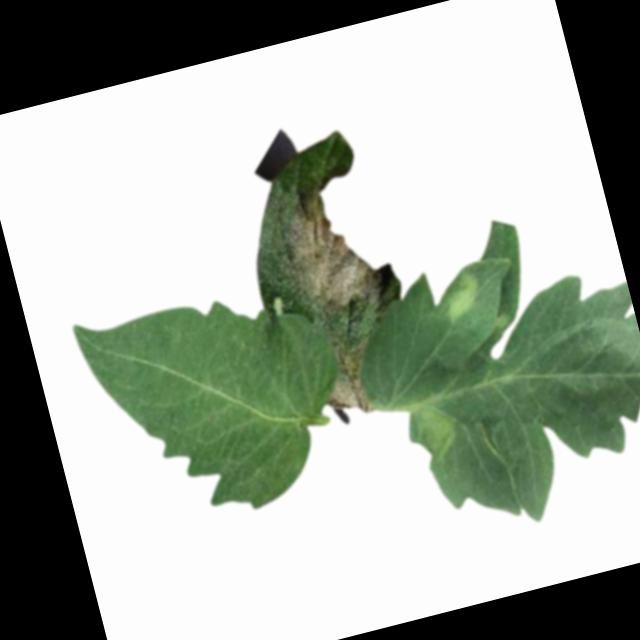Late_blight: (271, 175, 401, 328), (313, 336, 384, 423), (401, 392, 464, 464), (432, 266, 486, 325)
healthy: (70, 262, 366, 543)
